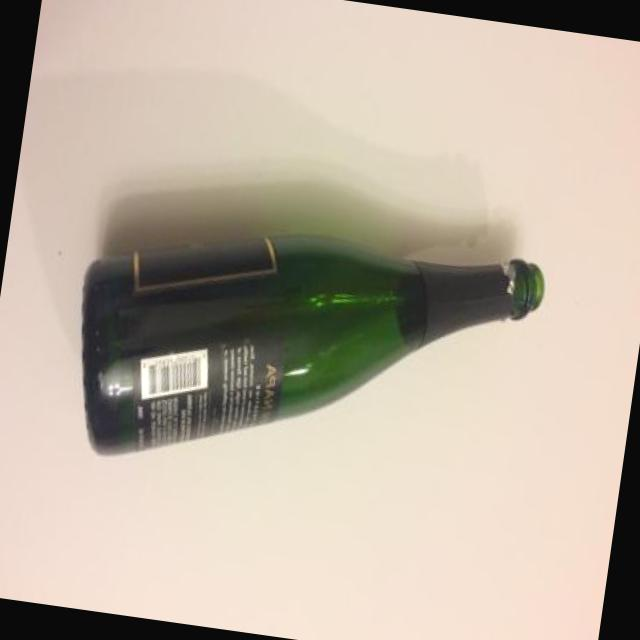chai_thuy_tinh: (81, 234, 545, 458)
